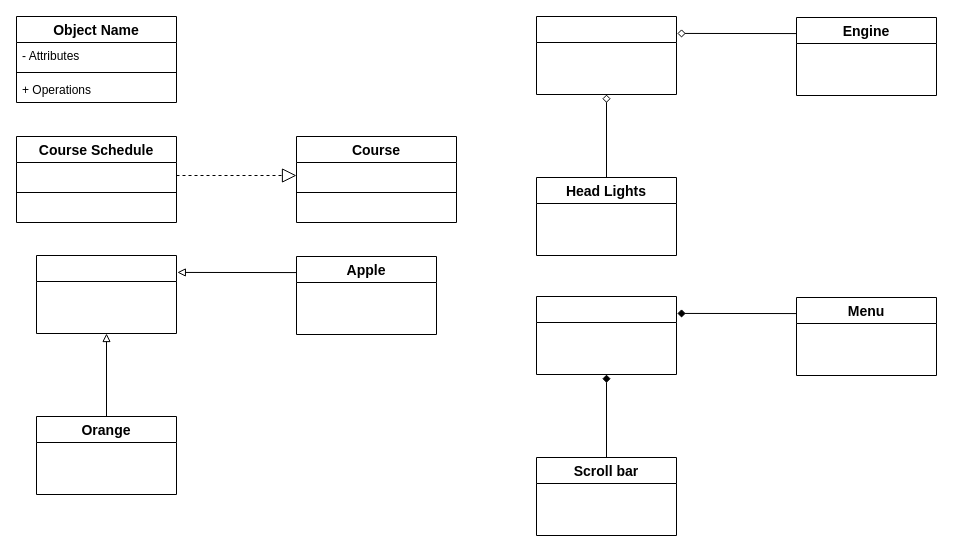
The diagram is 953 pixels wide and 552 high, and some of its shapes have lost their labels. Here are the shapes that lost their labels. From the top down, the centre of each, then its label:
At point 606,55: "Car".
At point 106,294: "Fruit".
At point 606,335: "Window".
